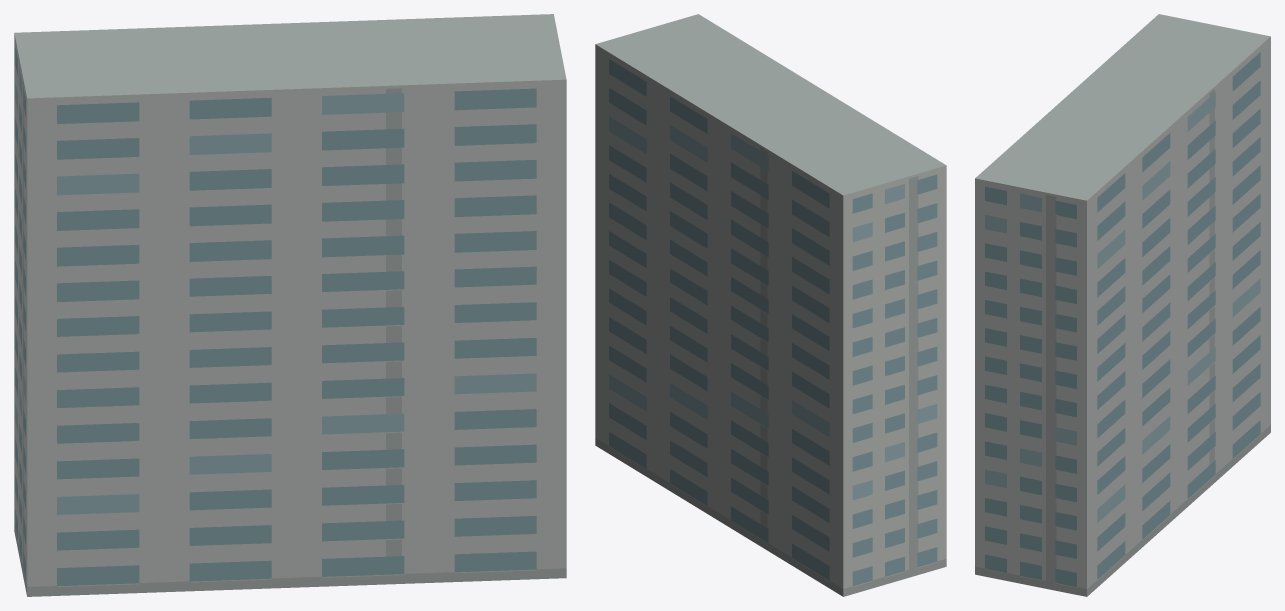
Rendered from residential-95f8c3c0-9d44-486b-9b50-d8f17935fb8e.glb.
The picture shows the model from 3 angles, left to right: view 1: azimuth 30°, elevation 25°; view 2: azimuth 150°, elevation 25°; view 3: azimuth 270°, elevation 25°; orthographic projection. The views are drawn at different scales.
Visible parts, largest first — view 1: residential-95f8c3c0-9d44-486b-9b50-d8f17935fb8e.tmp; view 2: residential-95f8c3c0-9d44-486b-9b50-d8f17935fb8e.tmp; view 3: residential-95f8c3c0-9d44-486b-9b50-d8f17935fb8e.tmp.
Part boxes in pixels (<box>): residential-95f8c3c0-9d44-486b-9b50-d8f17935fb8e.tmp: <box>14,14,566,596</box>; residential-95f8c3c0-9d44-486b-9b50-d8f17935fb8e.tmp: <box>595,14,946,596</box>; residential-95f8c3c0-9d44-486b-9b50-d8f17935fb8e.tmp: <box>975,14,1270,596</box>.
Size of the model in its own units: 41.44 by 41 by 27.75.
